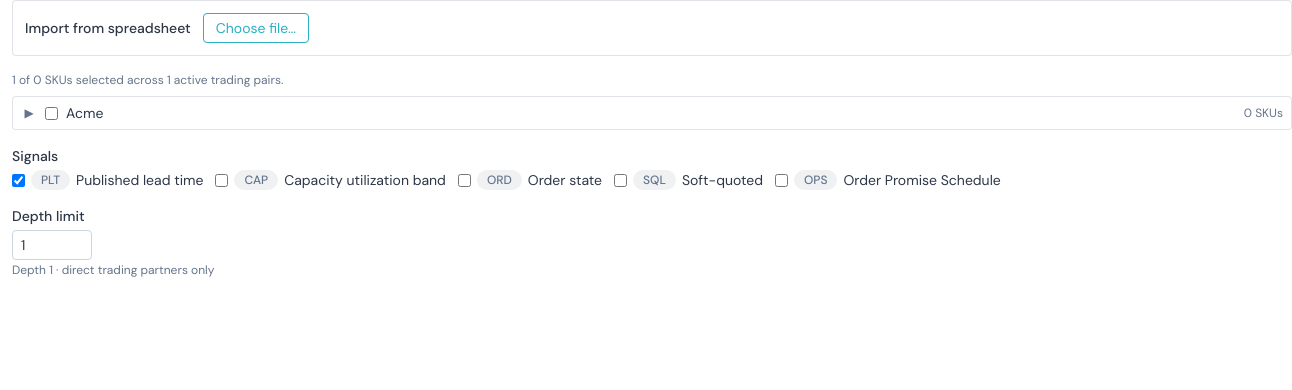
Test: <WatcherScopePicker> › renders ask inputs with visible labels on a detail line under the selected SKU
The width and height of the screenshot is (1292, 390).
Step 1. Click the button named "expand acme" → {"x": 29, "y": 113}, box [21,105,37,121]
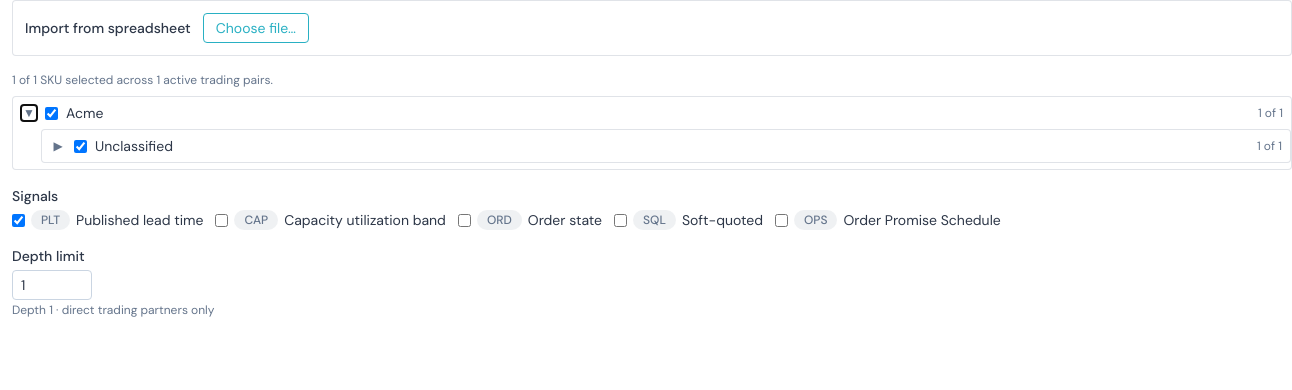
Step 2. Click the button named "expand unclassified" → {"x": 58, "y": 146}, box [50,138,66,154]
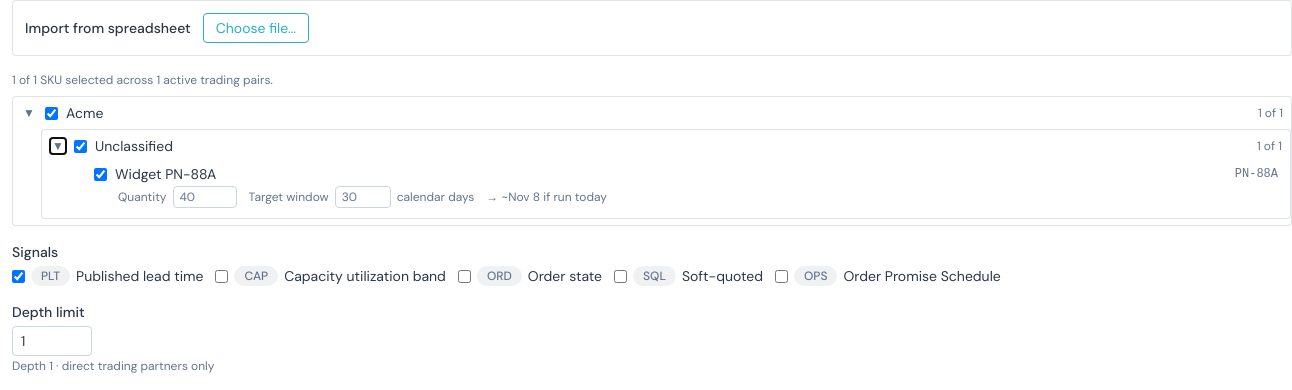
Now the text "Target window" is shown, box [248,189,329,205]
Now the text "→ ~Nov 8 if run today" is shown, box [486,189,607,205]
Now the list item "Widget PN-88A" is shown, box [115,165,216,183]
